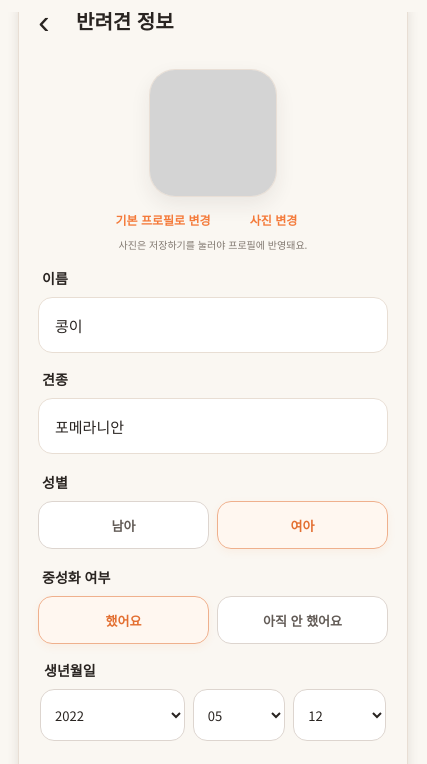
Test: DogProfileFormPage › offers and applies the default profile image only for a custom photo
The image size is (427, 764).
Click the button "기본 프로필로 변경": (163, 220) [106, 202, 220, 237]
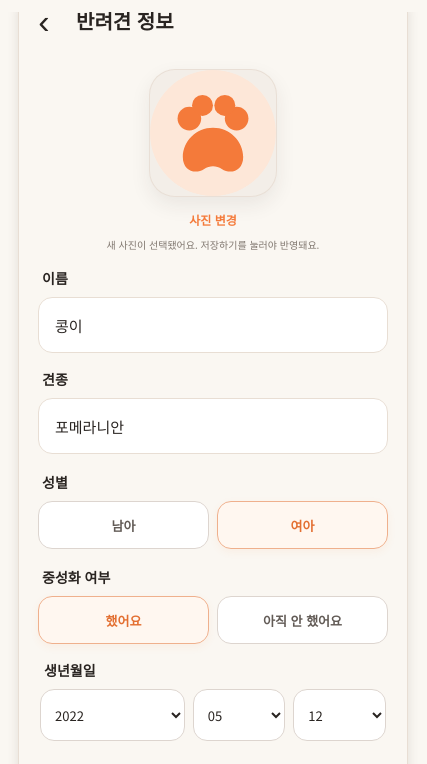
expect the button "기본 프로필로 변경" is gone: met
expect the text "새 사진이 선택됐어요. 저장하기를 눌러야 반영돼요." is shown: met, box [107, 237, 319, 252]
